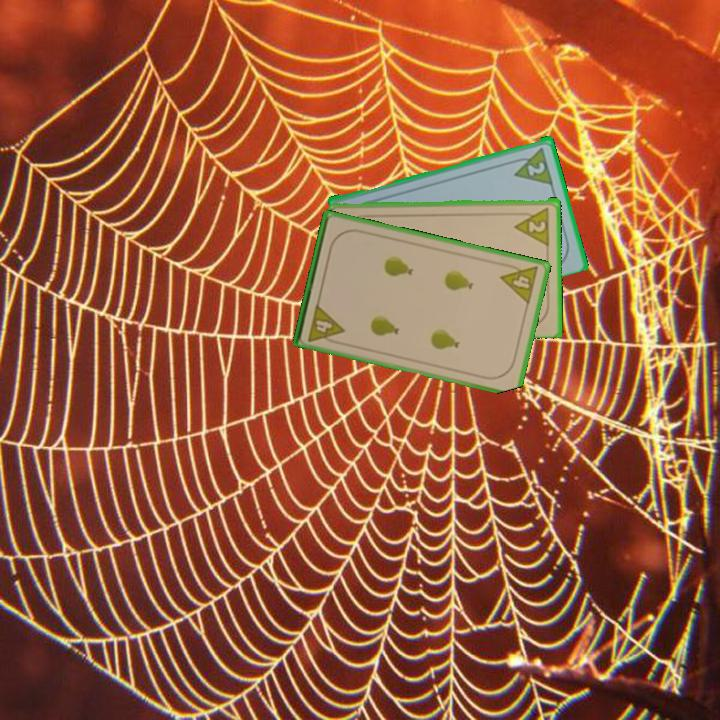2p: (511, 203, 552, 247), (524, 158, 548, 178)
4p: (497, 259, 541, 307), (304, 300, 347, 347)
